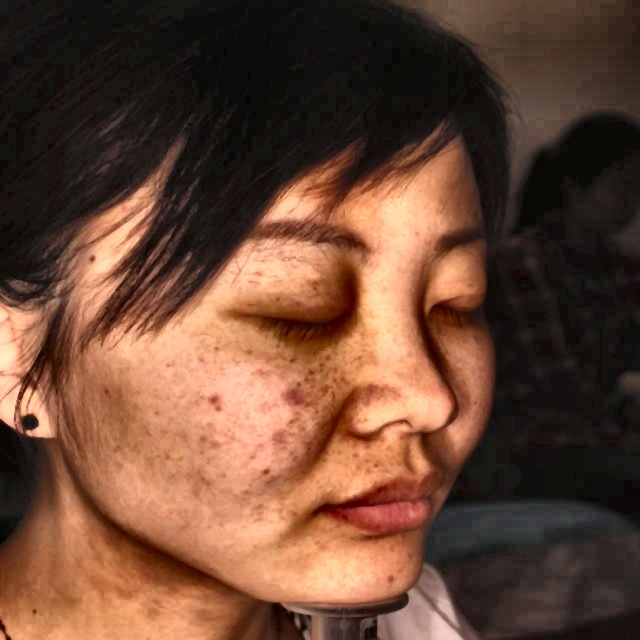comedone: (280, 381, 302, 414)
